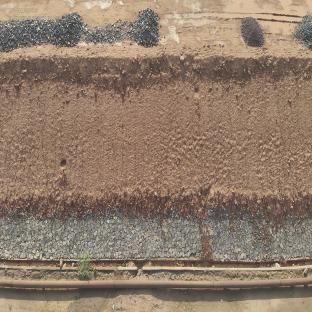rock_toe: (0, 214, 311, 260)
toe_drain: (0, 256, 312, 271)
